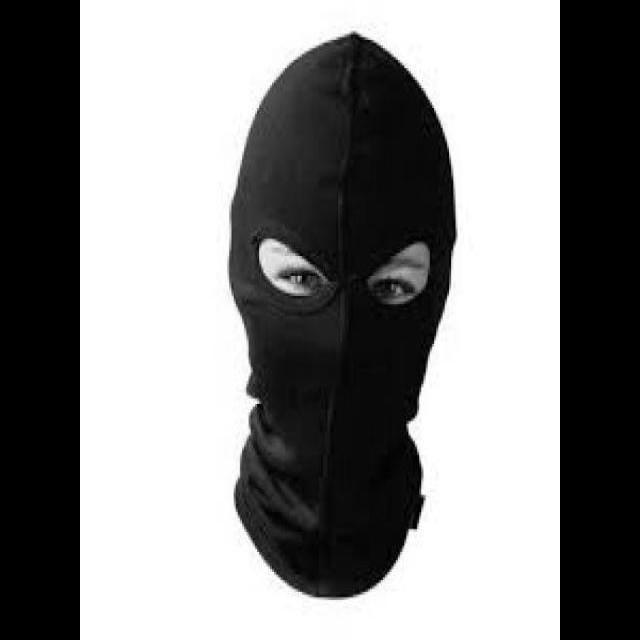6_pasamontana: (227, 29, 457, 600)
